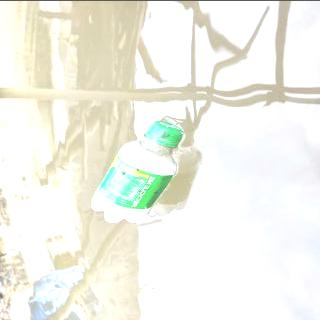bottle: (86, 119, 188, 224)
